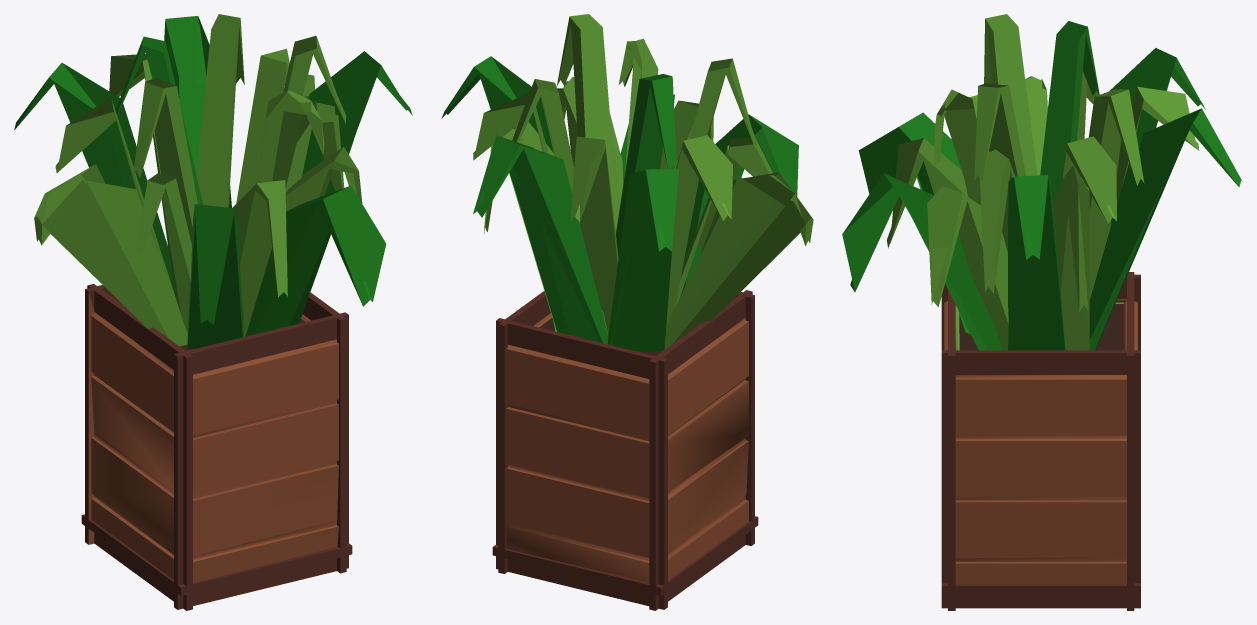
File: tanaman hias 2.fbx
3 renders of one model, left to right at view 1: azimuth 30°, elevation 25°; view 2: azimuth 150°, elevation 25°; view 3: azimuth 270°, elevation 25°, orthographic. The views are drawn at different scales.
Parts seen in each view (by area): view 1: pot.002; view 2: pot.002; view 3: pot.002.
Boxes of the visible parts, left/top/right/bottom form: pot.002: left=14, top=14, right=412, bottom=610; pot.002: left=441, top=14, right=813, bottom=610; pot.002: left=842, top=14, right=1242, bottom=610.
Bounding box in the file's own units: 299 × 395 × 276.
